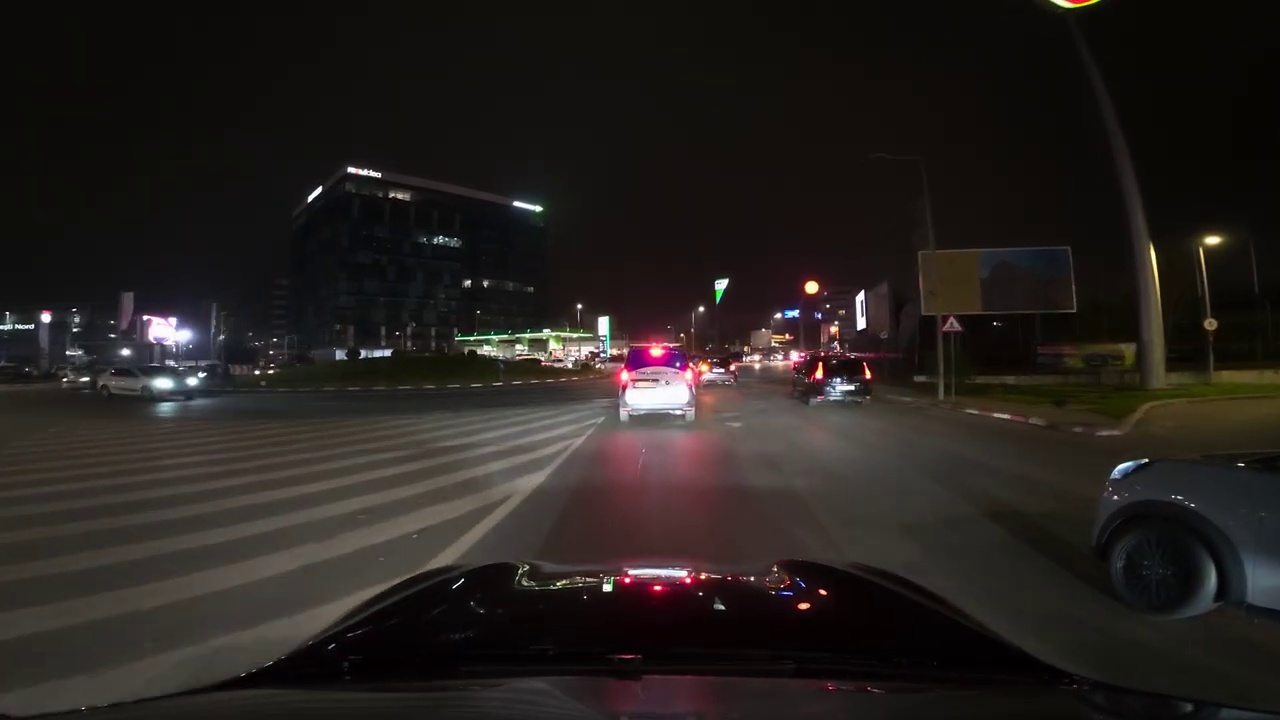acesa: (801, 277, 822, 297)
